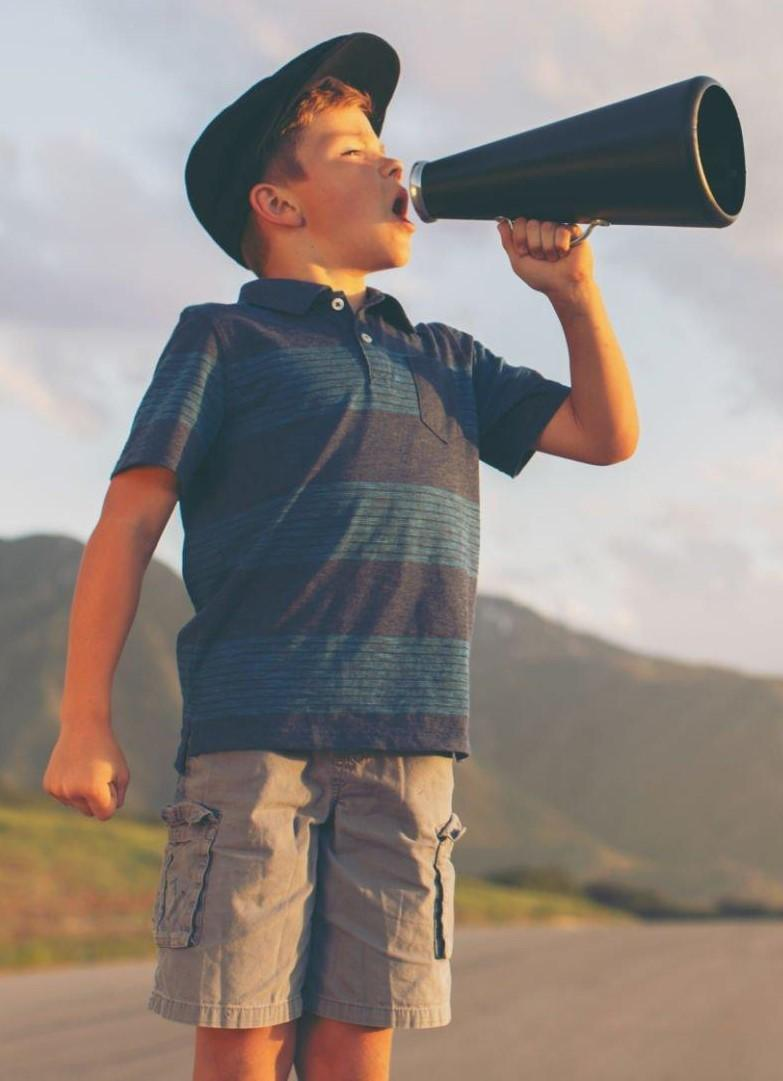Healthy: (248, 81, 418, 275)
